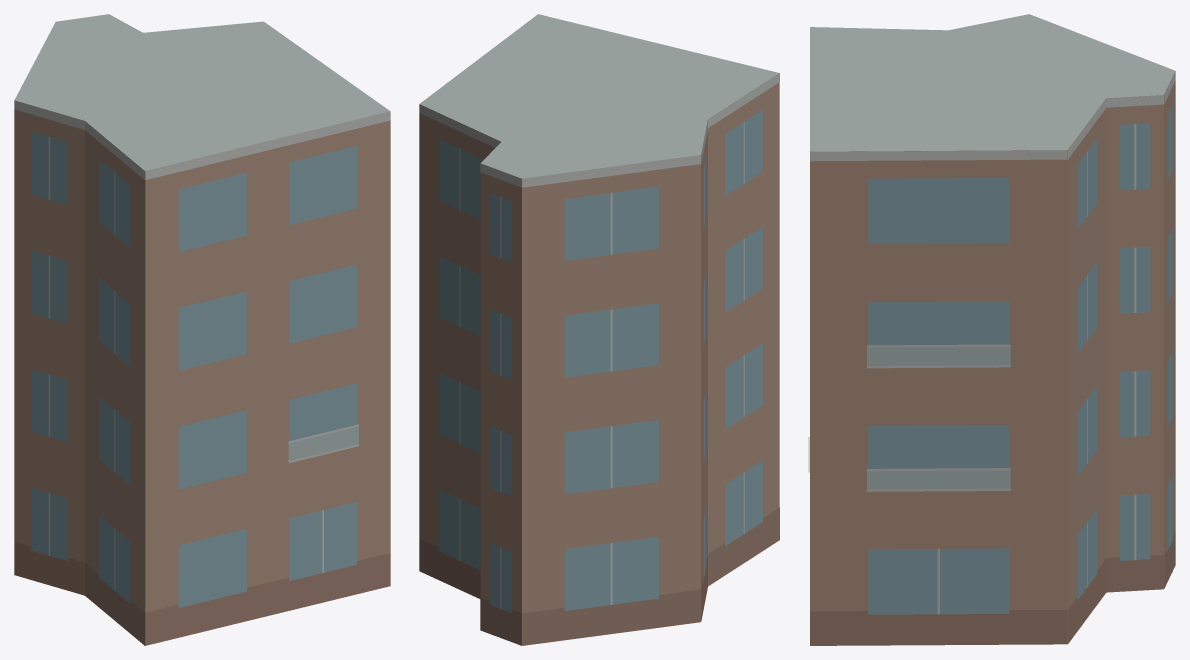
Rendered from survey-upis-32462189.glb.
3 renders of one model, left to right at view 1: azimuth 30°, elevation 25°; view 2: azimuth 150°, elevation 25°; view 3: azimuth 270°, elevation 25°, orthographic. The views are drawn at different scales.
Parts seen in each view (by area): view 1: survey-upis-32462189.tmp; view 2: survey-upis-32462189.tmp; view 3: survey-upis-32462189.tmp.
Boxes of the visible parts, bbox=[...] form: survey-upis-32462189.tmp: bbox=[14, 14, 390, 645]; survey-upis-32462189.tmp: bbox=[419, 14, 779, 645]; survey-upis-32462189.tmp: bbox=[808, 14, 1175, 645].
Size of the model in its own units: 7.61 by 12.7 by 8.56.
